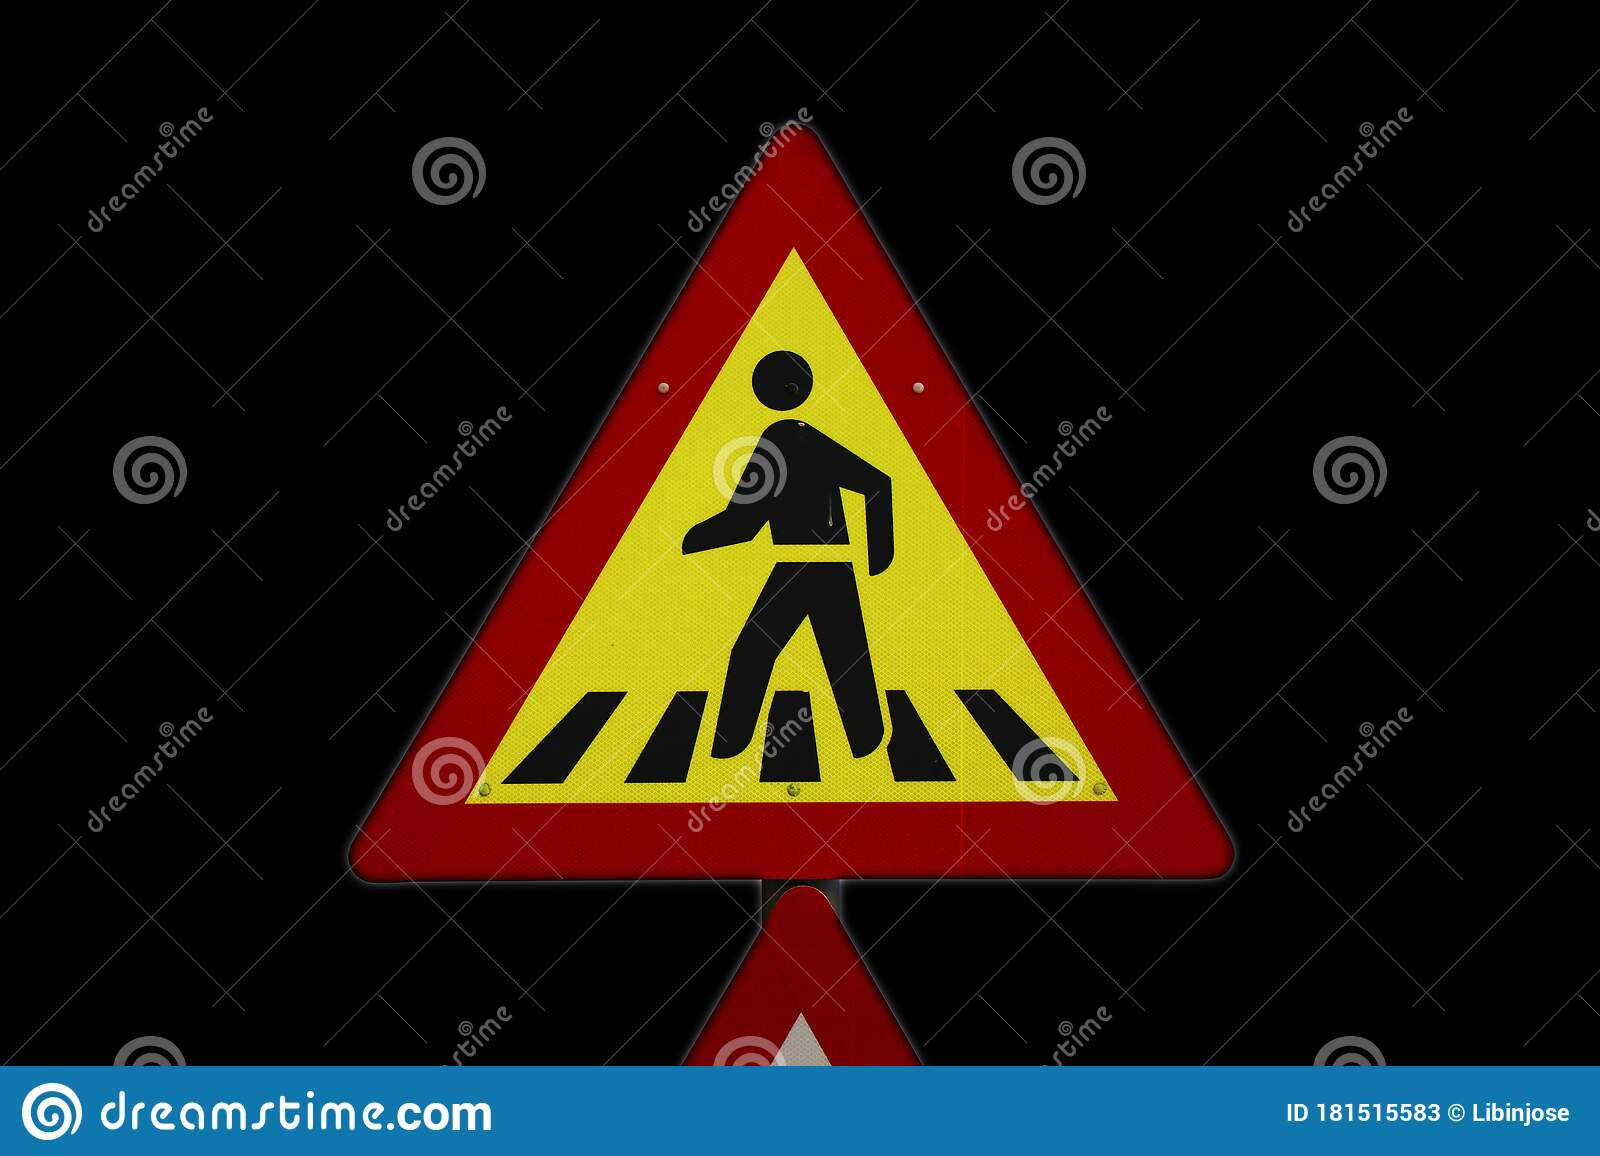pedestrian: (466, 162, 1106, 893)
